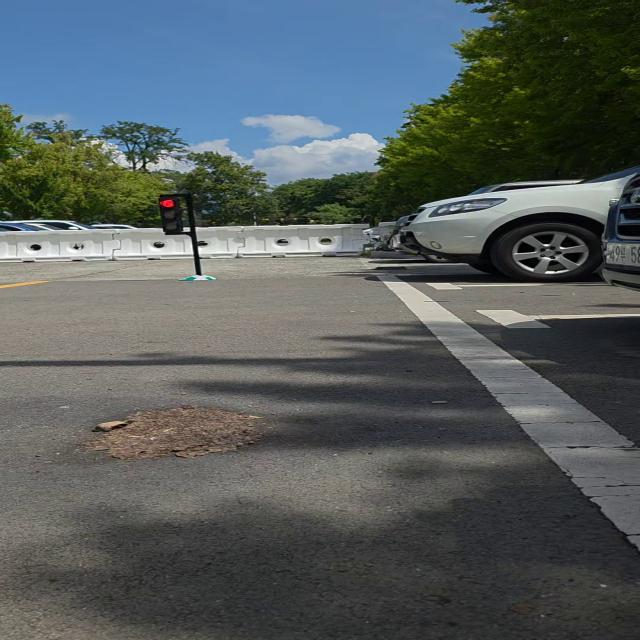red: (155, 197, 191, 235)
